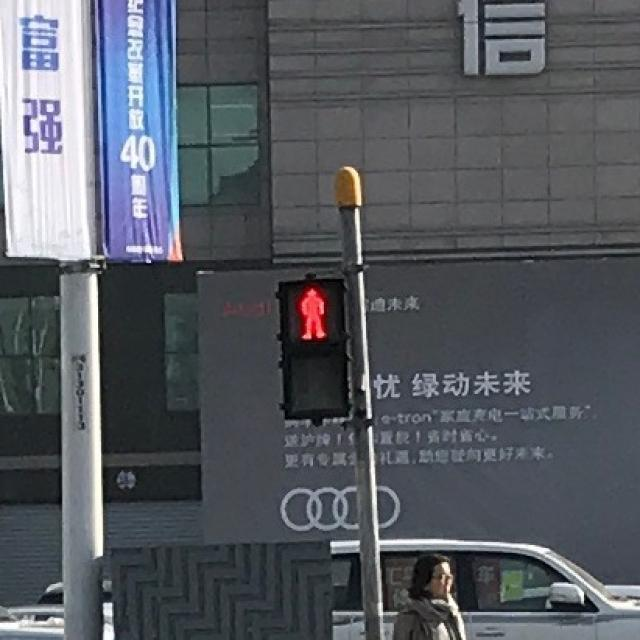red-crossing: (280, 282, 343, 346)
